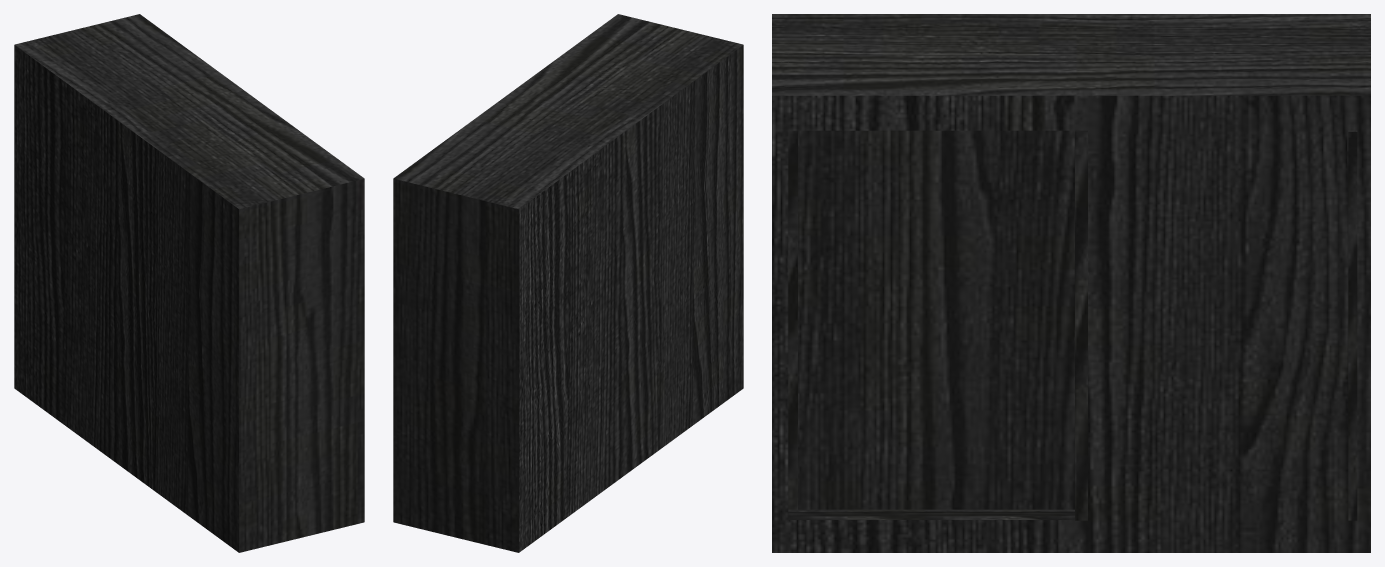
The model's file is BrosRoom_Closet.fbx.
3 views of the same model, side by side, from view 1: azimuth 30°, elevation 25°; view 2: azimuth 150°, elevation 25°; view 3: azimuth 270°, elevation 25° (orthographic). The views are drawn at different scales.
Visible parts, largest first — view 1: Armario02.002; view 2: Armario02.002; view 3: Armario02.002.
Boxes of the visible parts, bbox=[...] form: Armario02.002: bbox=[14, 14, 364, 552]; Armario02.002: bbox=[393, 14, 743, 552]; Armario02.002: bbox=[772, 14, 1370, 552].
Size of the model in its own units: 82.63 by 213 by 253.
1 material, 1 textured.
